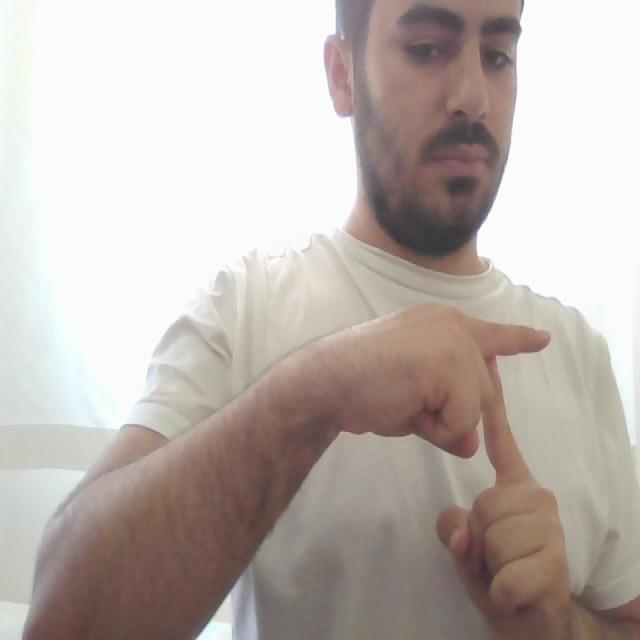Tesekkurler: (447, 292, 562, 512)
